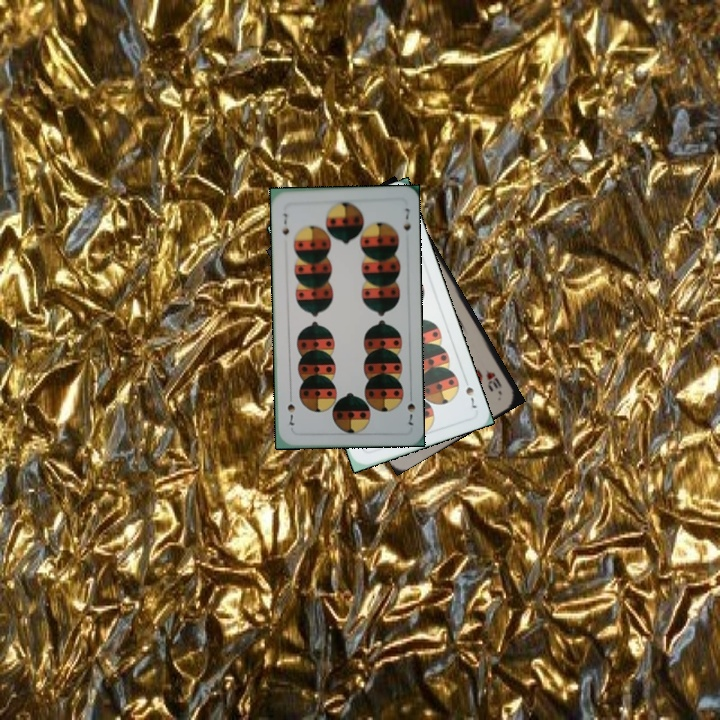H10: (481, 365, 504, 391)
S7: (403, 389, 417, 427), (461, 383, 479, 411), (278, 209, 291, 237)
